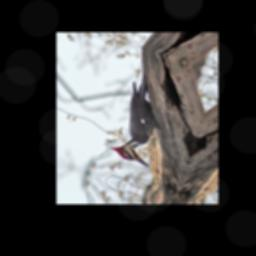Woodpecker: (108, 70, 179, 168)
